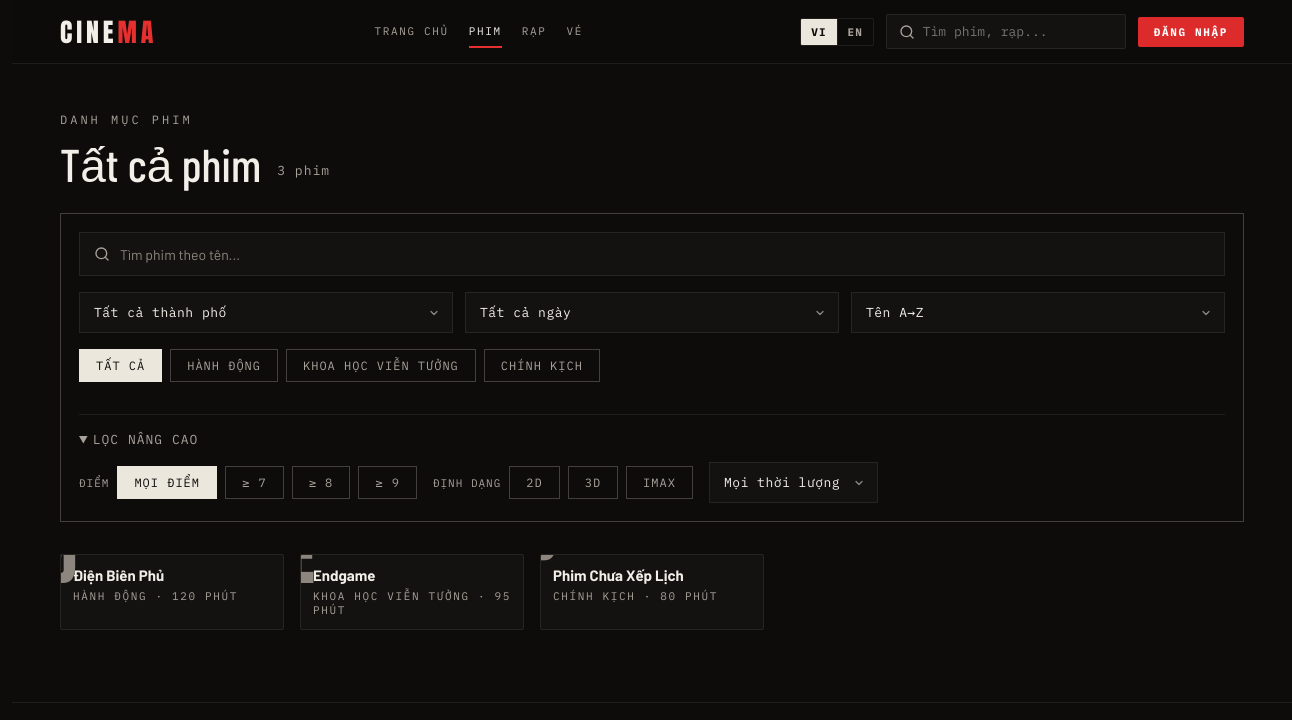
Test case: Movies › tìm theo tên KHÔNG DẤU vẫn khớp phim có dấu
This screenshot has width=1292, height=720.
Check: the text "Danh mục phim" is shown, box left=60, top=112, right=193, bottom=127
Check: the text "Điện Biên Phủ" is shown, box left=73, top=566, right=164, bottom=584
Type "dien bien" into the field labelled "Tìm phim theo tên..." at [665, 254], box left=120, top=246, right=1210, bottom=263
(page scrolled)
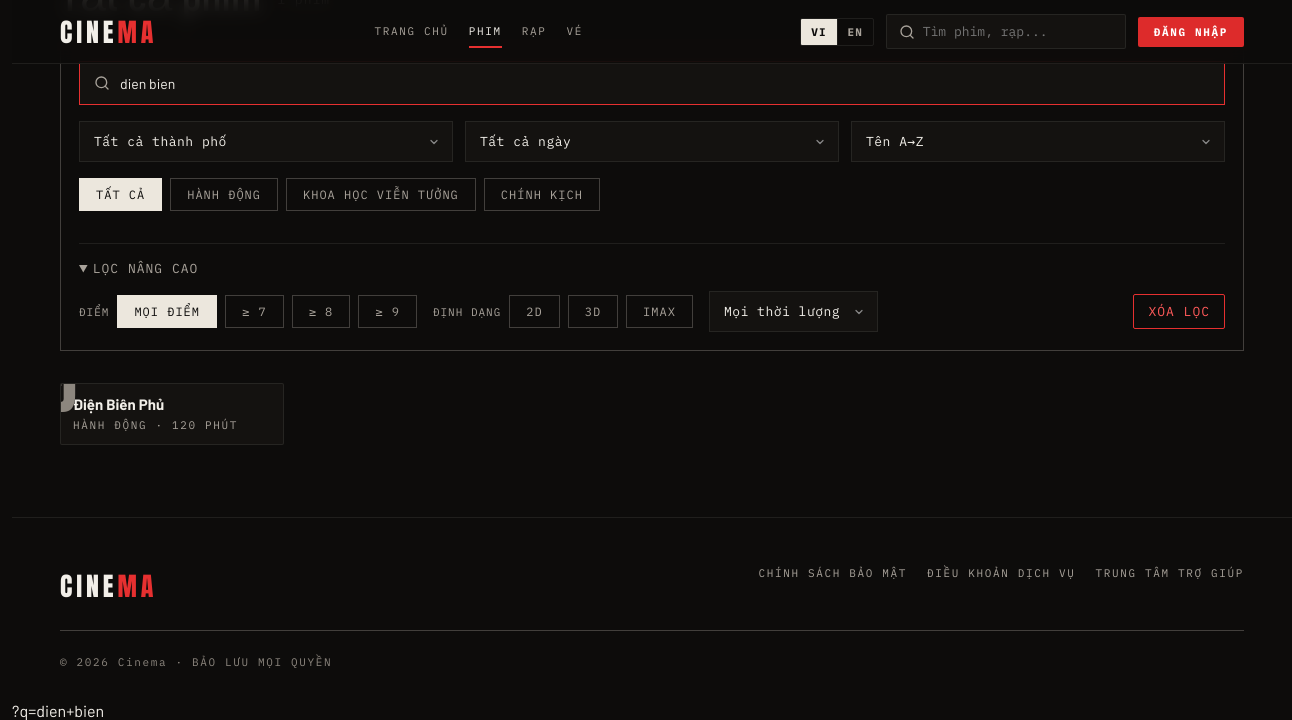
Check: the text with test id "qs" shows "q=dien+bien", box left=12, top=701, right=104, bottom=719
